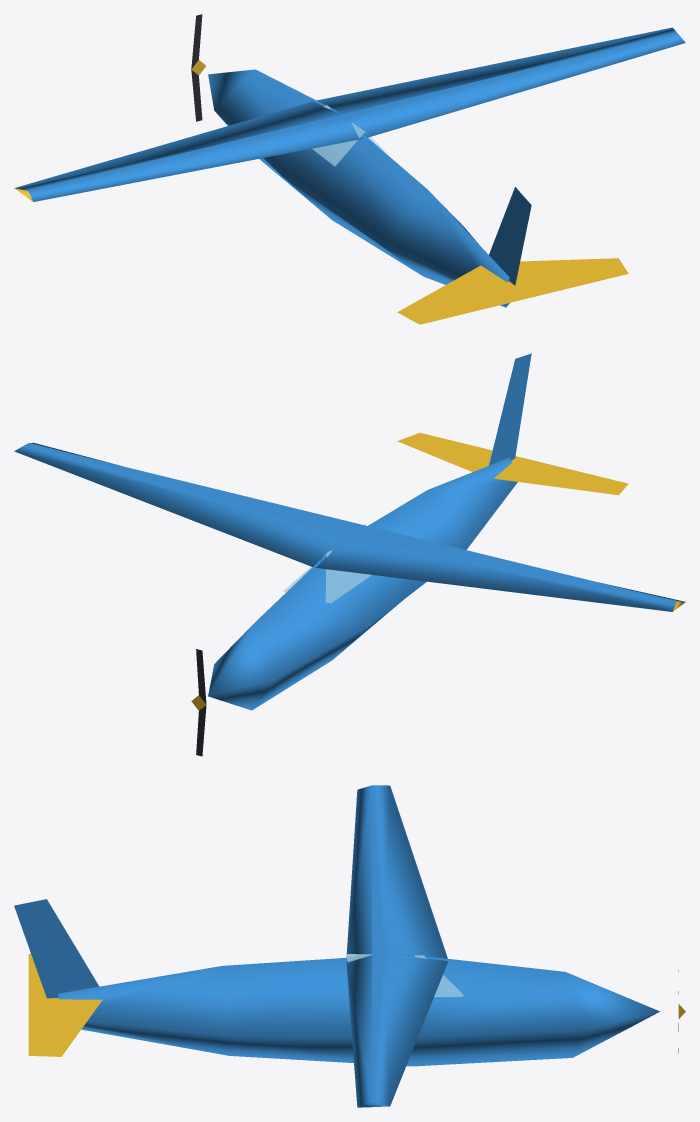
Rendered from Skyhopper.obj.
The picture shows the model from 3 angles, top to bottom: view 1: azimuth 30°, elevation 25°; view 2: azimuth 150°, elevation 25°; view 3: azimuth 270°, elevation 25°; orthographic projection.
Visible parts, largest first — view 1: Skyhopper_Complete; view 2: Skyhopper_Complete; view 3: Skyhopper_Complete.
Boxes of the visible parts, left/top/right/bottom form: Skyhopper_Complete: left=14, top=14, right=685, bottom=324; Skyhopper_Complete: left=14, top=353, right=685, bottom=756; Skyhopper_Complete: left=14, top=785, right=685, bottom=1107.
Bounding box in the file's own units: 10.4 × 2.53 × 9.2.
